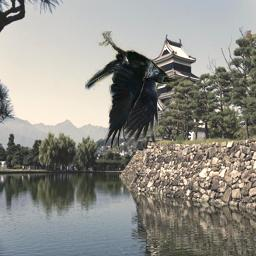Crow: (85, 31, 179, 153)
